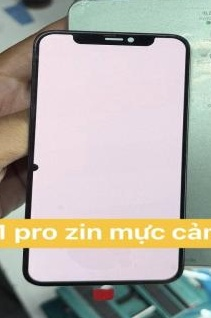screen_defect: (28, 159, 40, 174)
